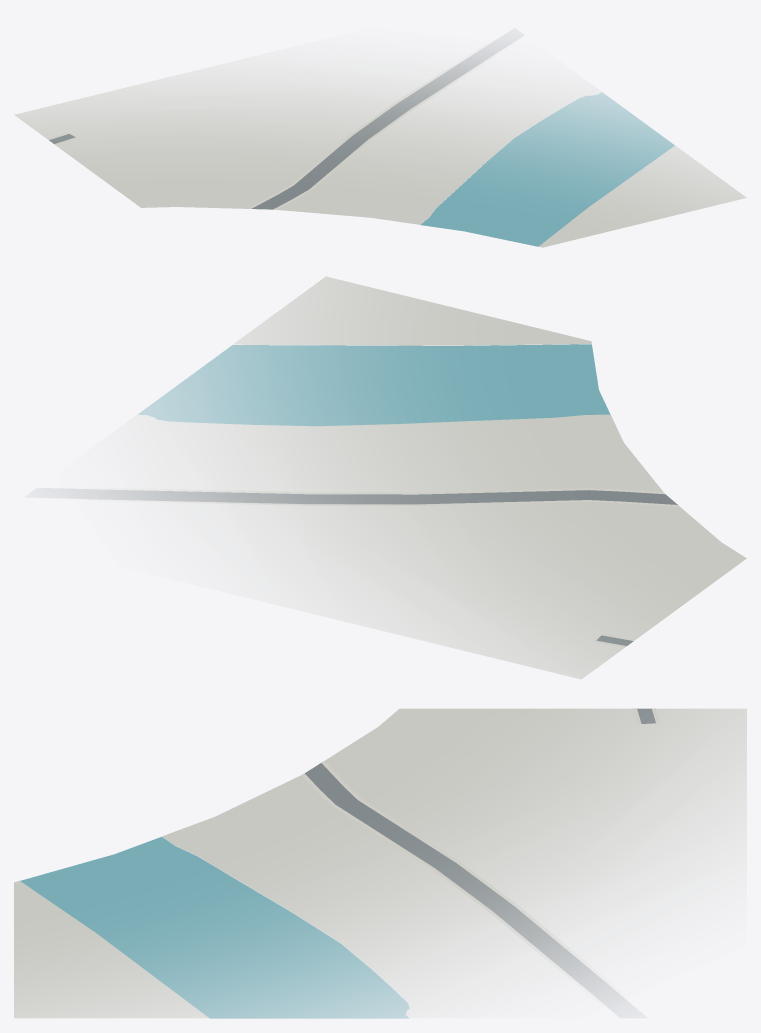
The picture shows the model from 3 angles, top to bottom: view 1: azimuth 30°, elevation 25°; view 2: azimuth 150°, elevation 25°; view 3: azimuth 270°, elevation 25°; orthographic projection. The views are drawn at different scales.
Parts seen in each view (by area): view 1: city; view 2: city; view 3: city.
Part boxes in pixels (x1,y1,x2,y2): city: [14, 34, 746, 247]; city: [40, 276, 746, 679]; city: [14, 708, 746, 1018].
Bounding box in the file's own units: 500 × 0.4 × 500.
